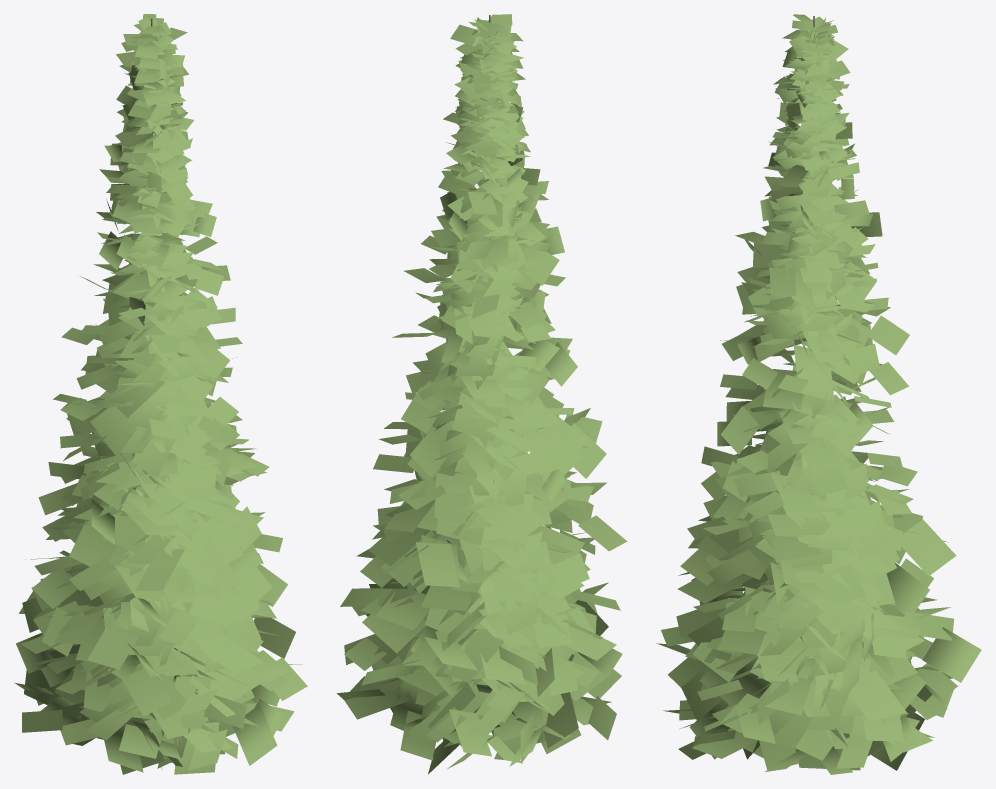
Rendered from Conifer_12_young_lod1.glb.
The picture shows the model from 3 angles, left to right: view 1: azimuth 30°, elevation 25°; view 2: azimuth 150°, elevation 25°; view 3: azimuth 270°, elevation 25°; orthographic projection.
Parts seen in each view (by area): view 1: Conifer_12_young_lod1; view 2: Conifer_12_young_lod1; view 3: Conifer_12_young_lod1.
Boxes of the visible parts, box(x1,y1,x2,y2) form: Conifer_12_young_lod1: box(14, 14, 307, 774); Conifer_12_young_lod1: box(337, 14, 627, 774); Conifer_12_young_lod1: box(656, 14, 981, 774).
Size of the model in its own units: 2.74 by 7.6 by 3.01.
